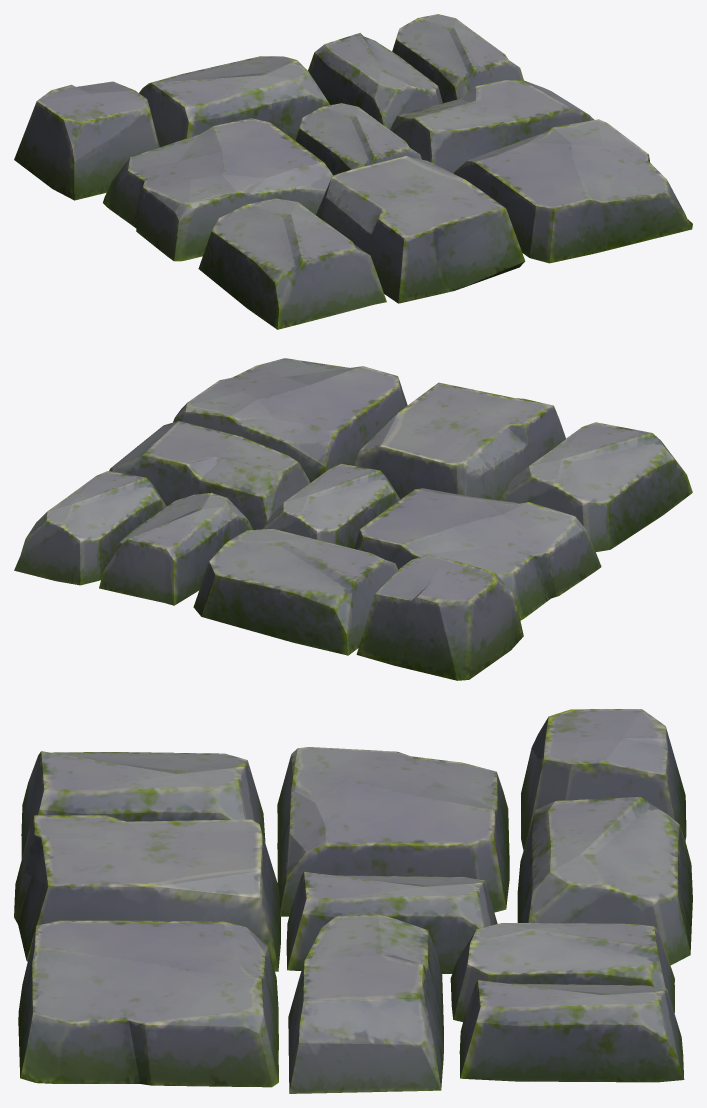
File: RockPath_Square_Small_1.glb
The picture shows the model from 3 angles, top to bottom: view 1: azimuth 30°, elevation 25°; view 2: azimuth 150°, elevation 25°; view 3: azimuth 270°, elevation 25°; orthographic projection. The views are drawn at different scales.
Parts seen in each view (by area): view 1: RockPath_Square_Small_1; view 2: RockPath_Square_Small_1; view 3: RockPath_Square_Small_1.
Boxes of the visible parts, <box> form: RockPath_Square_Small_1: <box>14,14,692,329</box>; RockPath_Square_Small_1: <box>14,358,692,680</box>; RockPath_Square_Small_1: <box>14,709,692,1093</box>.
Bounding box in the file's own units: 1.02 × 0.1499 × 0.9739.
1 material, 1 textured.
